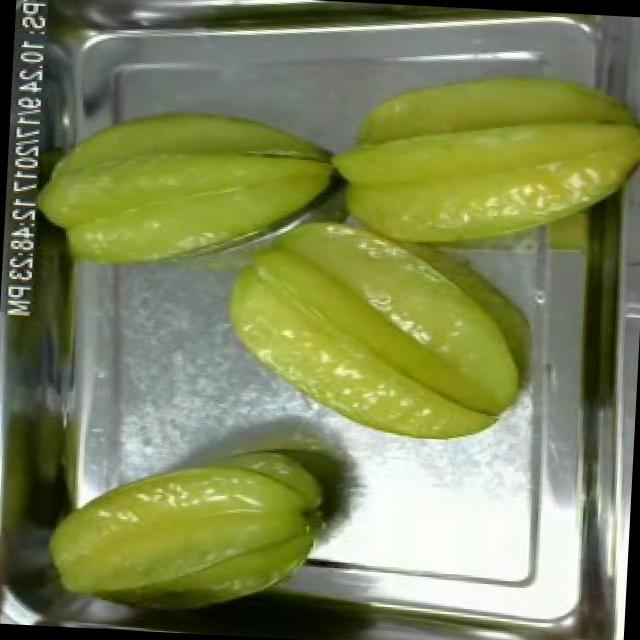fruit: (210, 195, 542, 455), (315, 38, 640, 273), (22, 86, 354, 288), (34, 438, 335, 628)
